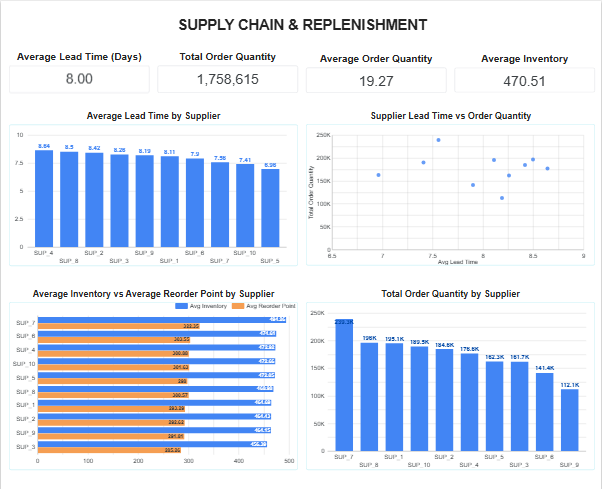

Layout of this report page (visuals, bound fields, positions):
{"tool":"powerbi","page":{"name":"Supply Chain & Replenishment","canvas":[1280,720],"ordinal":2},"visuals":[{"type":"textbox","box":[0,0,1279.7,85.1],"z":0},{"type":"card","title":"Average Lead Time","fields":{"Values":["retail_sales vw_supplier_summary.Avg Lead Time Display"]},"box":[15.7,66.5,262.9,90],"z":1000},{"type":"card","title":"Total Order Quantity","fields":{"Values":["Sum(retail_sales vw_supplier_summary.Total Order Quantity)"]},"box":[337.1,66.5,254.3,90],"z":2000},{"type":"card","title":"Average Order Quantity","fields":{"Values":["Avg(retail_sales vw_supplier_summary.Avg Order Quantity)"]},"box":[691.4,66.5,252.9,90],"z":3000},{"type":"card","title":"Total Suppliers","fields":{"Values":["Count(retail_sales vw_supplier_summary.Supplier ID)"]},"box":[1035.7,66.5,227.1,90],"z":4000},{"type":"clusteredBarChart","title":"Average Lead Time by Supplier ","fields":{"Category":["retail_sales vw_supplier_summary.Supplier ID"],"Y":["Avg(retail_sales vw_supplier_summary.Avg Lead Time)"]},"box":[0,151,632.9,298.6],"z":5000},{"type":"clusteredBarChart","title":"Total Order Quantity by Supplier","fields":{"Category":["retail_sales vw_supplier_summary.Supplier ID"],"Y":["Sum(retail_sales vw_supplier_summary.Total Order Quantity)"]},"box":[632.9,151,647.1,298.6],"z":6000},{"type":"scatterChart","title":"Supplier Lead Time vs Order Quantity","fields":{"X":["Avg(retail_sales vw_supplier_summary.Avg Lead Time)"],"Y":["Sum(retail_sales vw_supplier_summary.Total Order Quantity)"],"Category":["retail_sales vw_supplier_summary.Supplier ID"]},"box":[0,454.3,632.9,265.7],"z":7000},{"type":"clusteredBarChart","title":"Average Inventory vs AveragReorder Point by Supplier","fields":{"Category":["retail_sales vw_supplier_summary.Supplier ID"],"Y":["Avg(retail_sales vw_supplier_summary.Avg Inventory)","Avg(retail_sales vw_supplier_summary.Avg Reorder Point)"]},"box":[632.9,454.3,647.1,265.7],"z":8000}]}

Visuals, with their boxes on the page's 1280x720 design canvas (x1, y1, x2, y2). These are canvas units, not pixel positions in the 602x489 screenshot, which may show the page scaled, cropped or inside an application window:
textbox: BBox(0, 0, 1280, 85)
"Average Lead Time" card: BBox(16, 66, 279, 156)
"Total Order Quantity" card: BBox(337, 66, 591, 156)
"Average Order Quantity" card: BBox(691, 66, 944, 156)
"Total Suppliers" card: BBox(1036, 66, 1263, 156)
"Average Lead Time by Supplier " clusteredBarChart: BBox(0, 151, 633, 450)
"Total Order Quantity by Supplier" clusteredBarChart: BBox(633, 151, 1280, 450)
"Supplier Lead Time vs Order Quantity" scatterChart: BBox(0, 454, 633, 720)
"Average Inventory vs AveragReorder Point by Supplier" clusteredBarChart: BBox(633, 454, 1280, 720)
